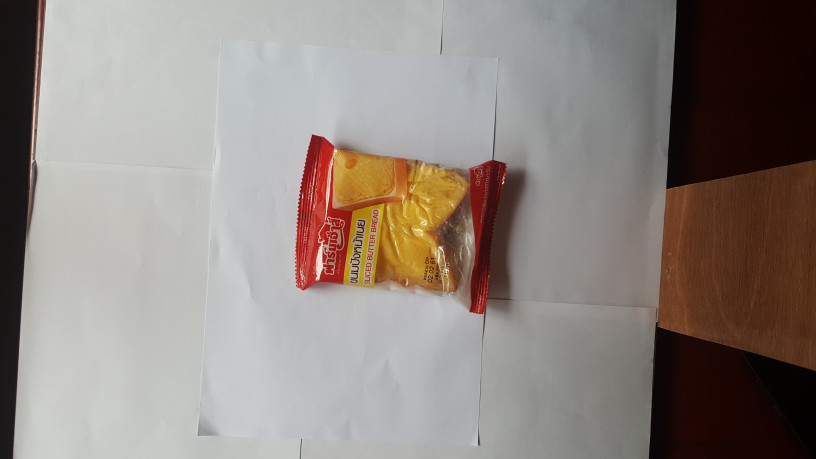farmhouse-bread-butter: (288, 127, 512, 318)
